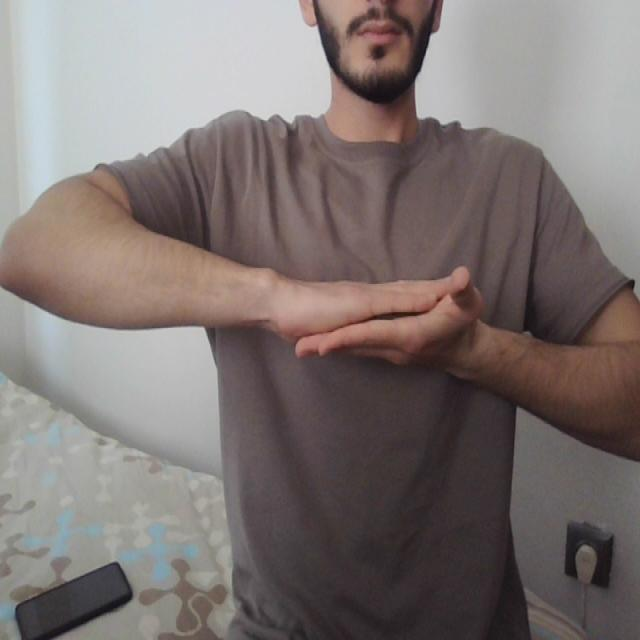Arkadas: (218, 232, 583, 428)
